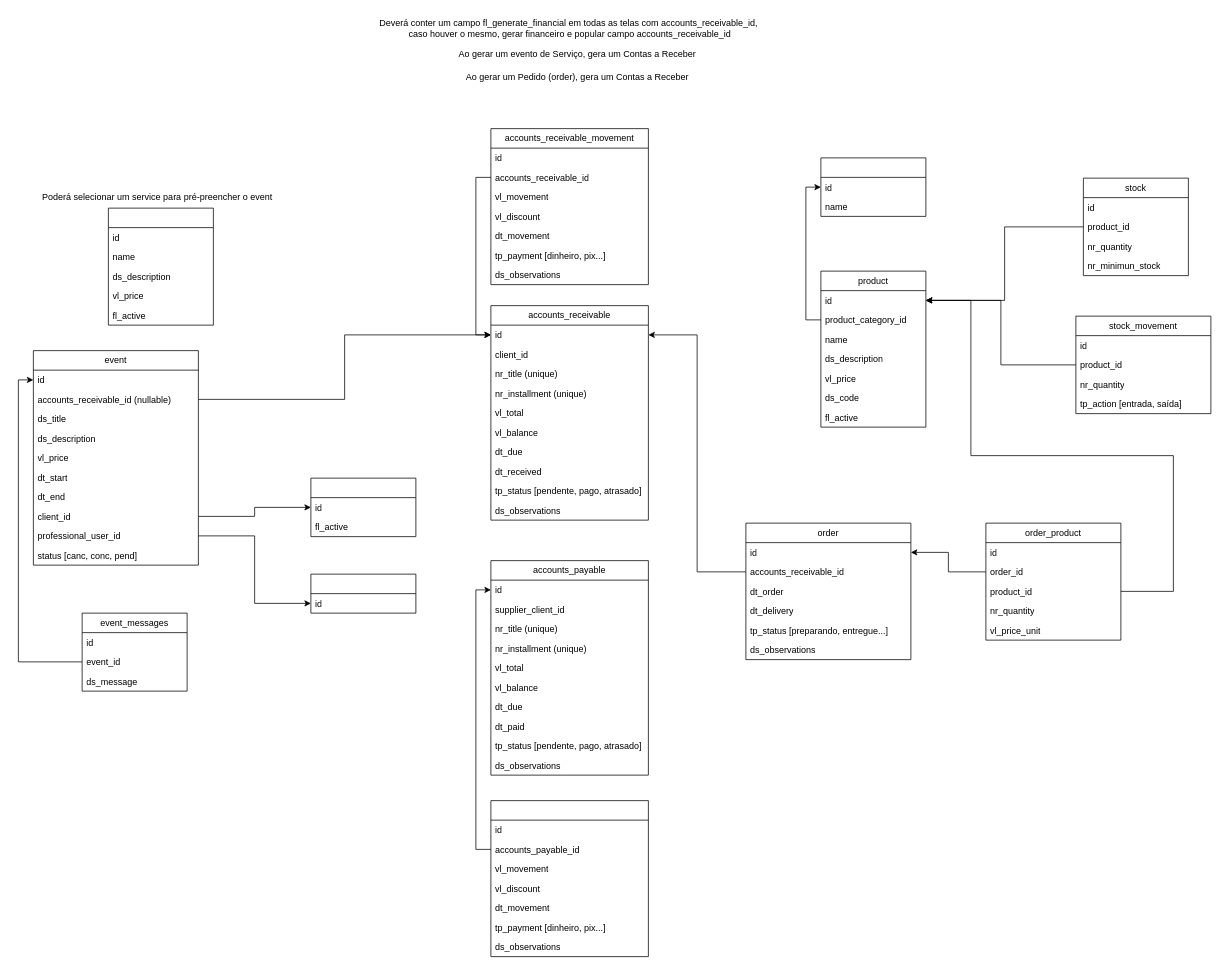
Image size: 1224x971. Some labels were removed from this diagram. Each missing label, with the box of its shape:
accounts_payable_movement: (490, 800, 648, 957)
client: (310, 477, 416, 537)
product_category: (820, 157, 926, 216)
service: (108, 207, 213, 325)
users: (310, 573, 416, 613)
